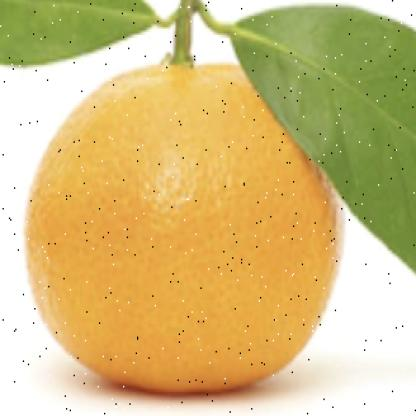fresh: (30, 56, 343, 390)
